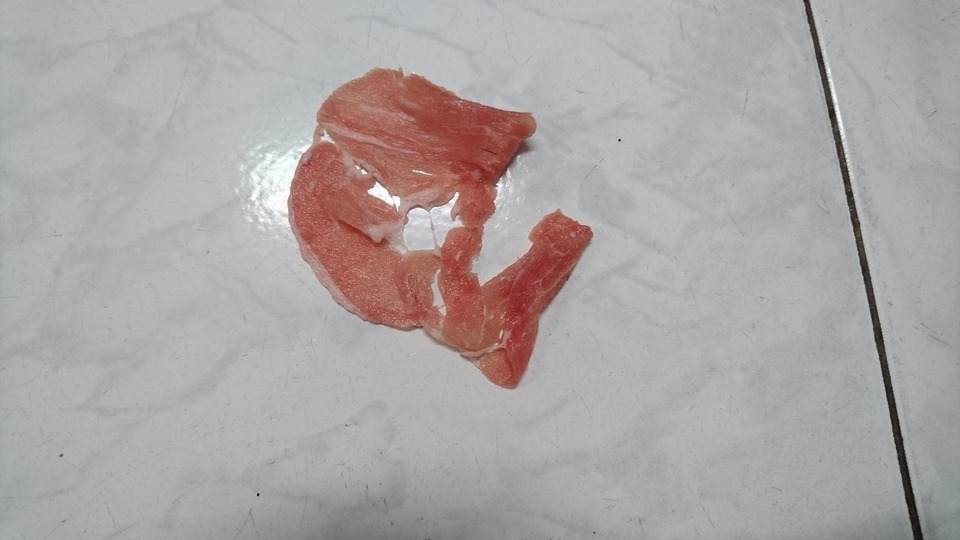restructured meat: (283, 68, 597, 389)
